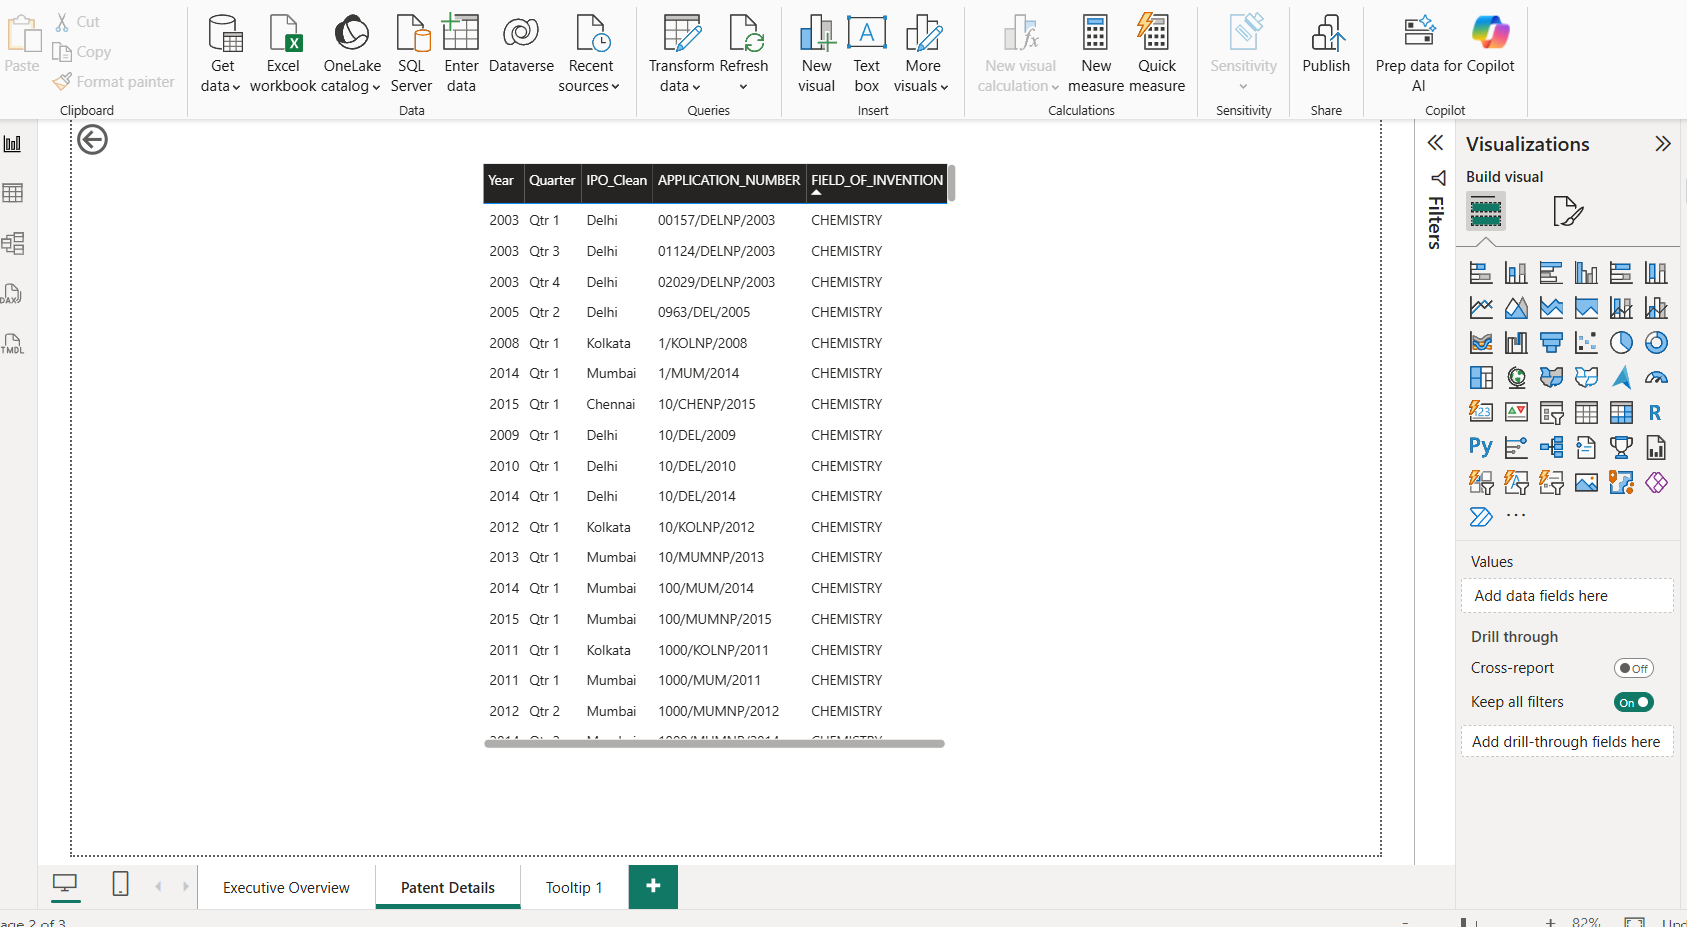

This screenshot's page, from the dashboard's own definition file:
{"tool":"powerbi","page":{"name":"Patent Details","canvas":[1280,720],"ordinal":1},"visuals":[{"type":"tableEx","fields":{"Values":["PatentMaster.DATE_OF_FILING.Variation.Date Hierarchy.Year","PatentMaster.DATE_OF_FILING.Variation.Date Hierarchy.Quarter","PatentMaster.IPO_Clean","PatentMaster.APPLICATION_NUMBER","PatentMaster.FIELD_OF_INVENTION"]},"box":[396.3,39.5,474.1,581.5],"z":0},{"type":"actionButton","box":[0,0,100,40],"z":1000}]}

Visuals, with their boxes on the page's 1280x720 design canvas (x1, y1, x2, y2). These are canvas units, not pixel positions in the 1687x927 screenshot, which may show the page scaled, cropped or inside an application window:
tableEx - PatentMaster.DATE_OF_FILING.Variation.Date Hierarchy.Year x PatentMaster.DATE_OF_FILING.Variation.Date Hierarchy.Quarter: l=396, t=40, r=870, b=621
actionButton: l=0, t=0, r=100, b=40
